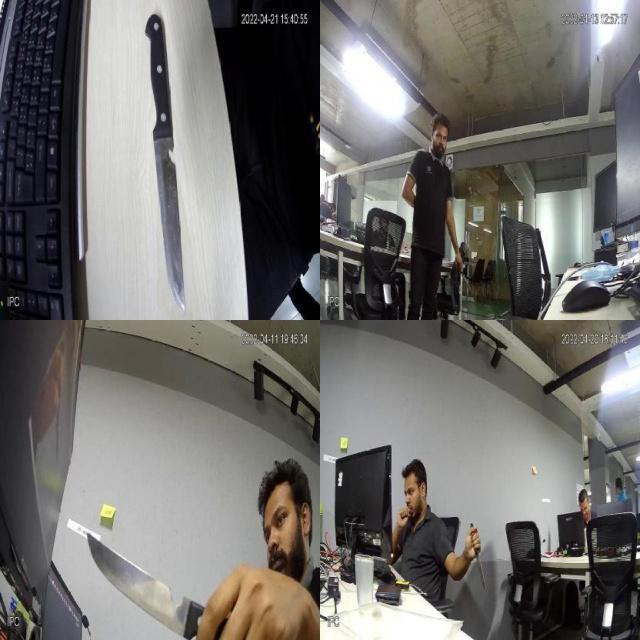-: (142, 12, 202, 314), (85, 527, 189, 629), (470, 542, 489, 594), (463, 272, 472, 295)
